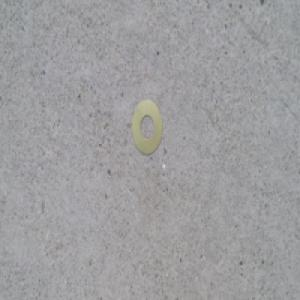Washer: (131, 97, 165, 155)
